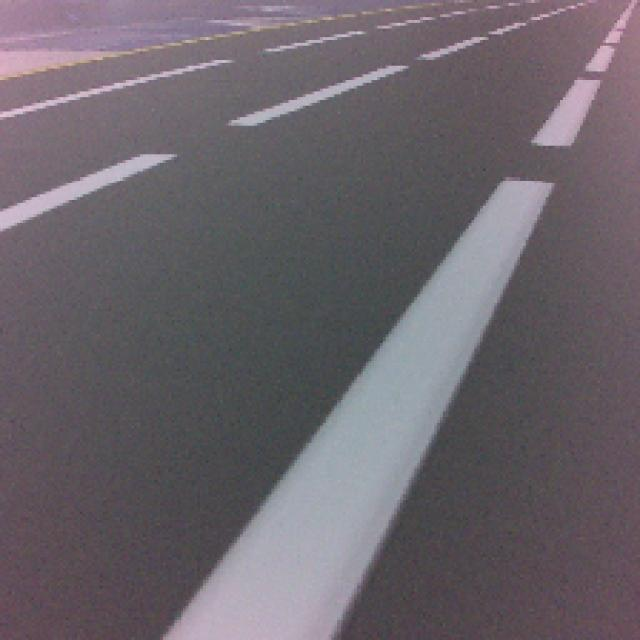Guard rail: (169, 185, 550, 640)
